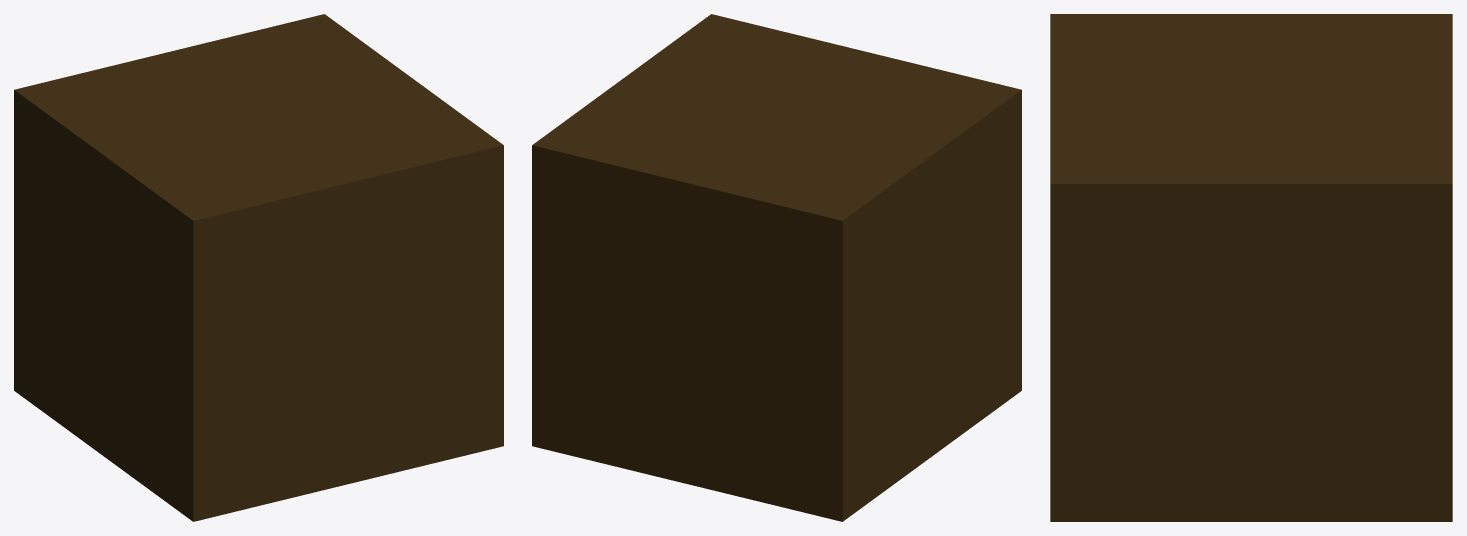
3 views of the same model, side by side, from view 1: azimuth 30°, elevation 25°; view 2: azimuth 150°, elevation 25°; view 3: azimuth 270°, elevation 25° (orthographic). The views are drawn at different scales.
Parts seen in each view (by area): view 1: pCube13; view 2: pCube13; view 3: pCube13.
Part boxes in pixels (x1,y1,x2,y2): pCube13: (14,14,503,521); pCube13: (532,14,1021,521); pCube13: (1050,14,1452,521).
Size of the model in its own units: 199 by 199 by 184.
